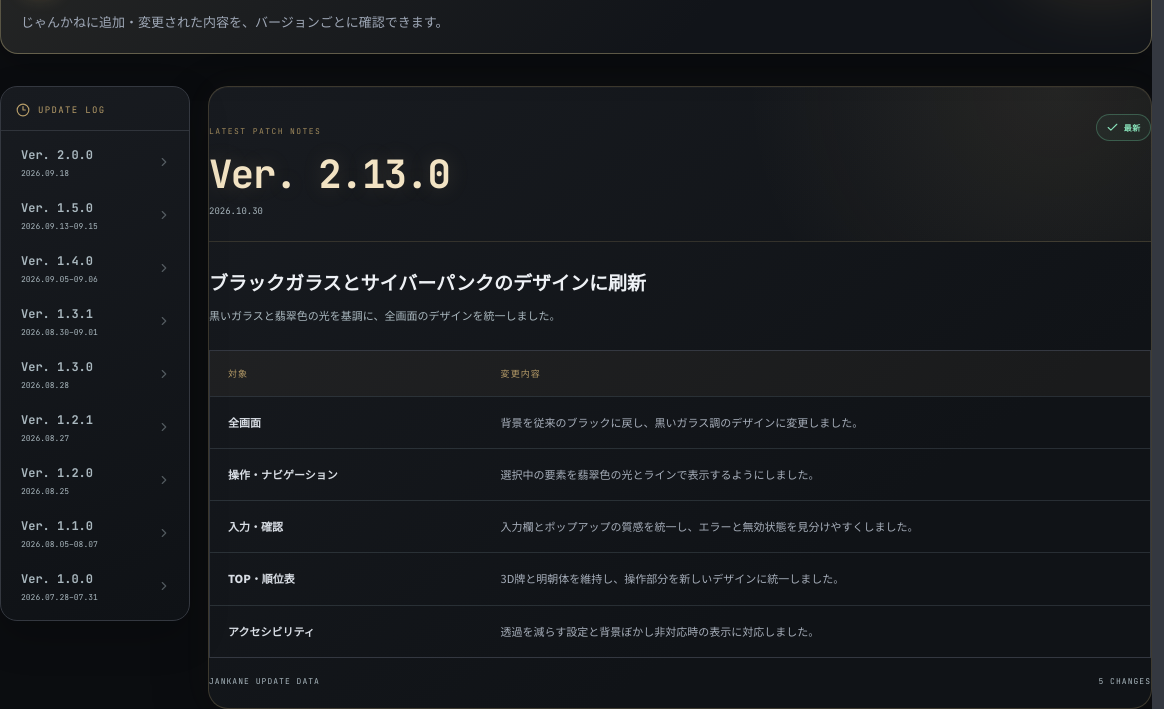
update history › selects past releases from the update side menu
(page scrolled)
Click the button "Ver. 1.0.0 2026.07.28–07.31": (95, 586) [9,560,181,613]
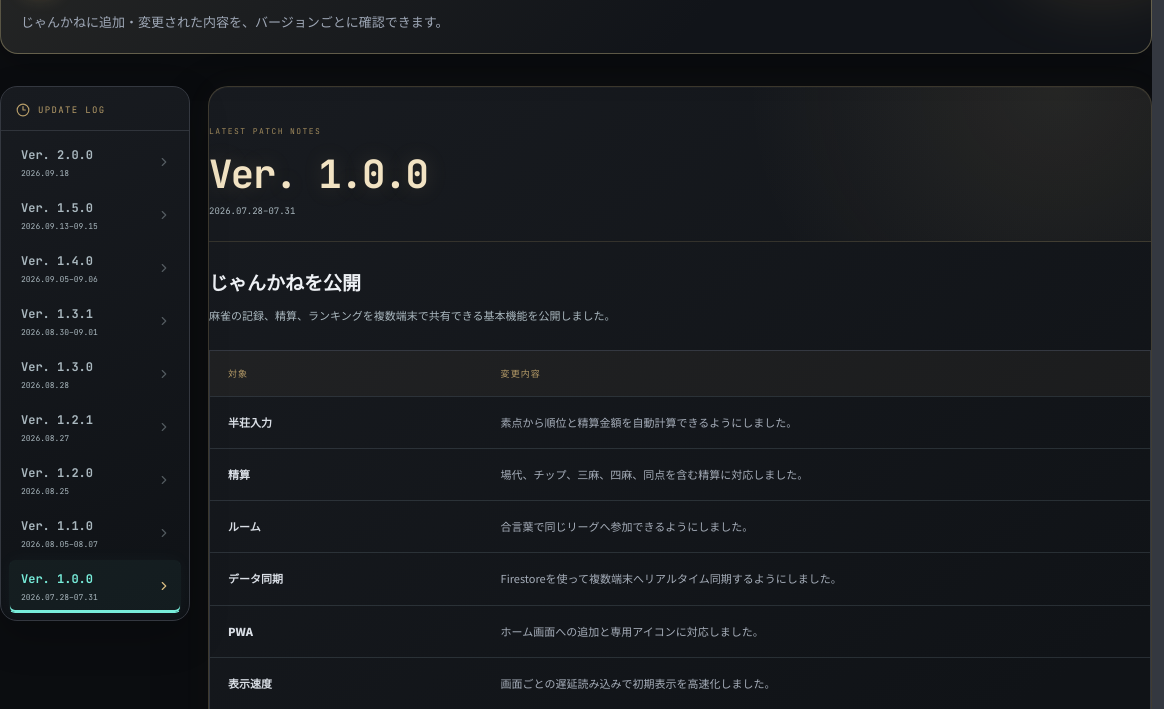
Now the heading "Ver. 1.0.0" is shown, box [209,148,427,200]
Now the column heading "半荘入力" is shown, box [210,396,483,448]
Now the text "素点から順位と精算金額を自動計算できるようにしました。" is shown, box [483,396,1150,448]
